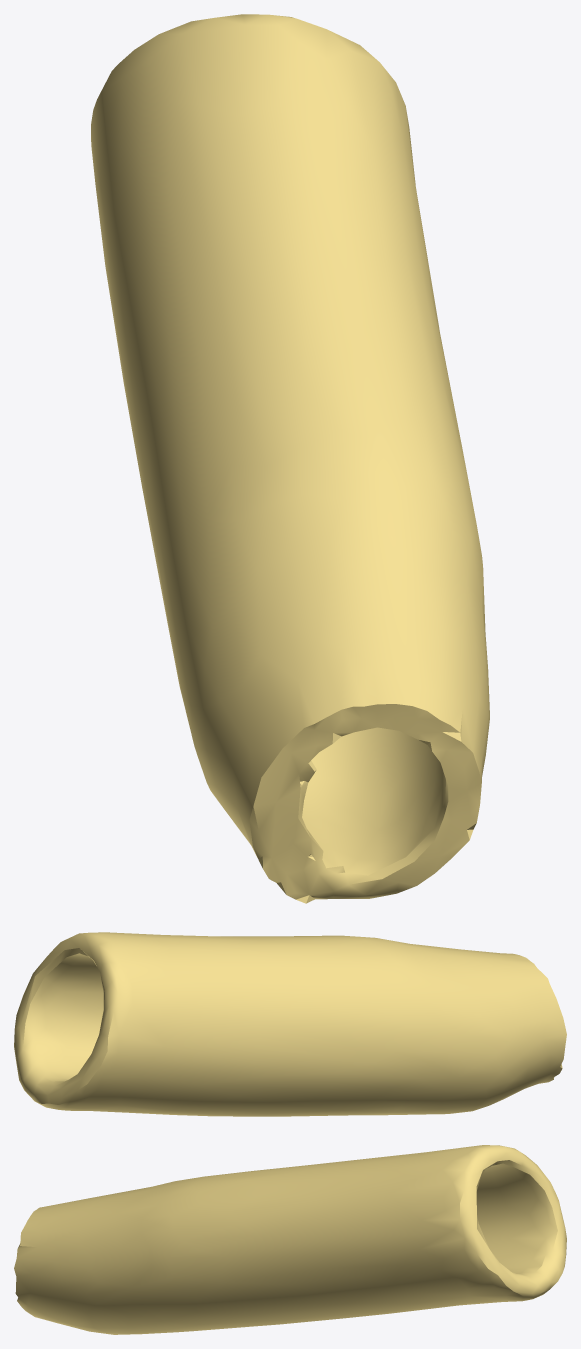
Rendered from fma58722_mm2244m.glb.
3 renders of one model, top to bottom at view 1: azimuth 30°, elevation 25°; view 2: azimuth 150°, elevation 25°; view 3: azimuth 270°, elevation 25°, orthographic. The views are drawn at different scales.
Visible parts, largest first — view 1: FMA58722_MM2244M; view 2: FMA58722_MM2244M; view 3: FMA58722_MM2244M.
Part boxes in pixels (left/top/right/bottom): FMA58722_MM2244M: left=91, top=14, right=489, bottom=903; FMA58722_MM2244M: left=14, top=932, right=566, bottom=1116; FMA58722_MM2244M: left=14, top=1145, right=566, bottom=1334.
Size of the model in its own units: 0.0096 by 0.00799 by 0.0161.
